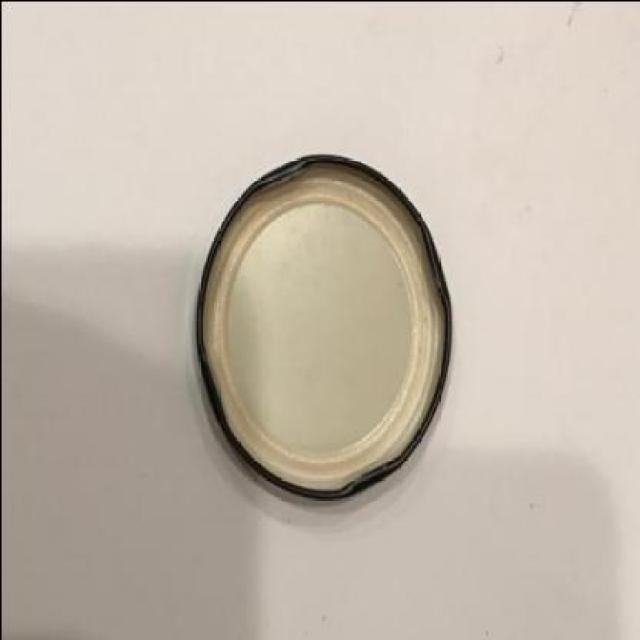metal: (195, 149, 454, 497)
